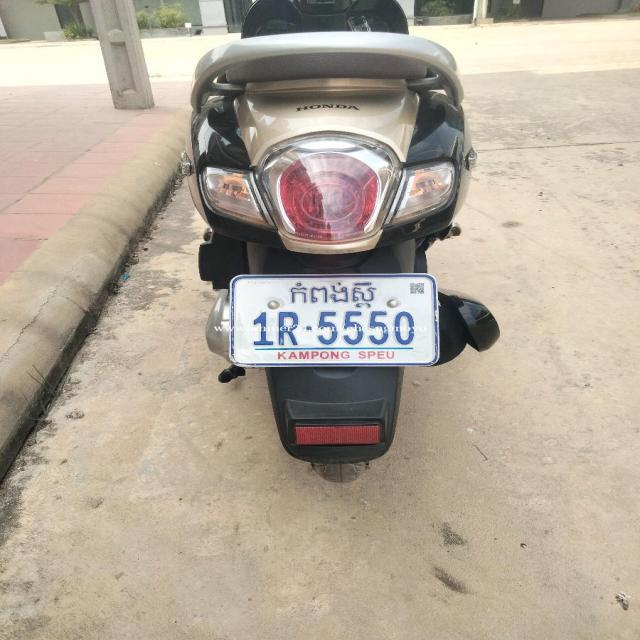Kampong_Speu: (288, 281, 376, 308)
